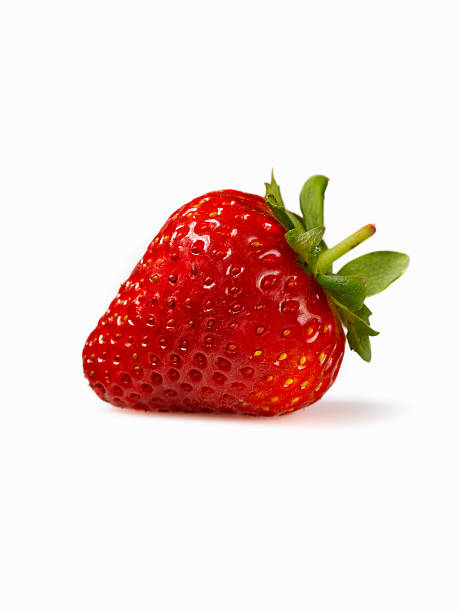Fresa: (73, 185, 360, 427)
